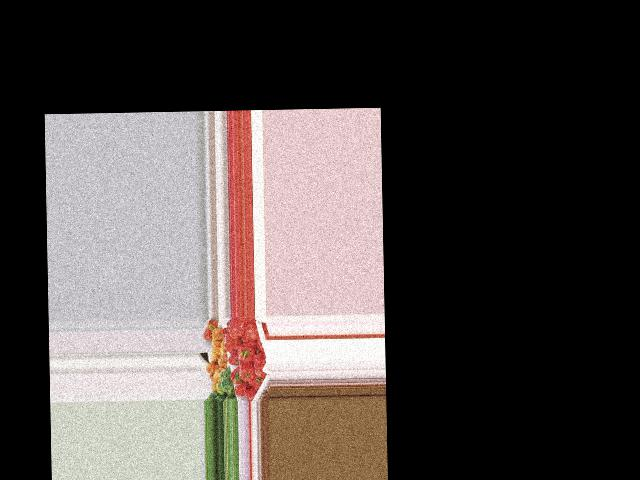bell_pepper: (253, 352, 267, 377)
